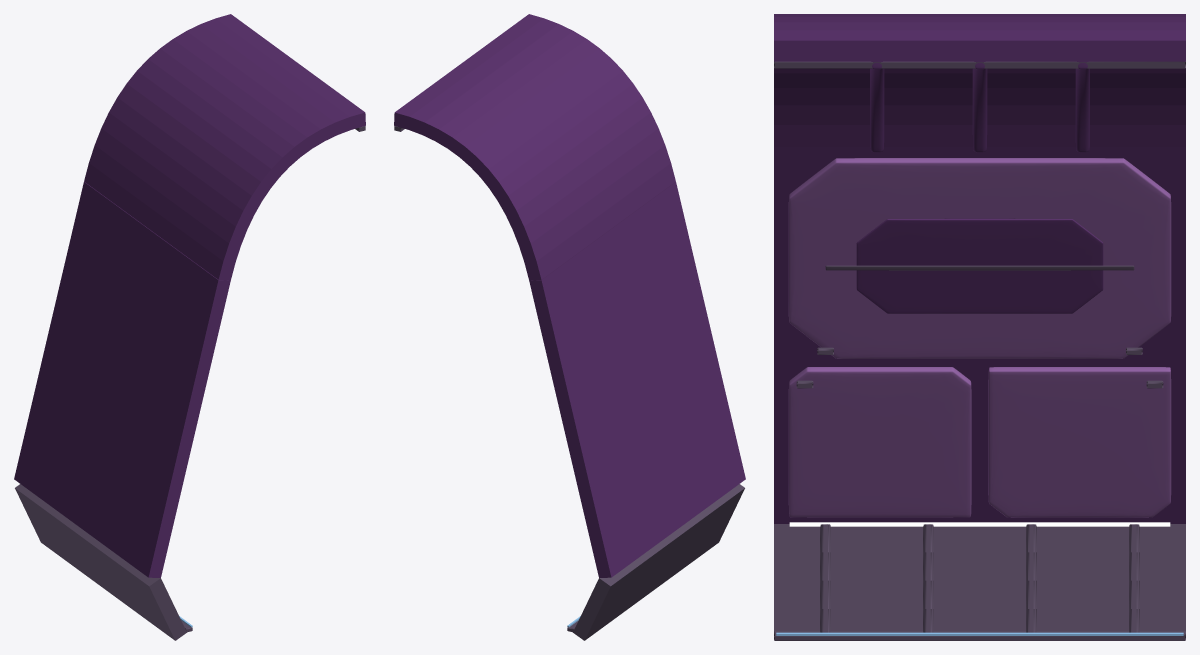
Rendered from SM_SB_Kit_KeelShell_WallBay.fbx.
3 renders of one model, left to right at view 1: azimuth 30°, elevation 25°; view 2: azimuth 150°, elevation 25°; view 3: azimuth 270°, elevation 25°, orthographic. The views are drawn at different scales.
Visible parts, largest first — view 1: SM_SB_Kit_KeelShell_WallBay; view 2: SM_SB_Kit_KeelShell_WallBay; view 3: SM_SB_Kit_KeelShell_WallBay.
Part boxes in pixels (x1,y1,x2,y2): SM_SB_Kit_KeelShell_WallBay: (14,14,365,640); SM_SB_Kit_KeelShell_WallBay: (394,14,745,640); SM_SB_Kit_KeelShell_WallBay: (774,14,1185,640).
Size of the model in its own units: 373 by 400 by 791.
